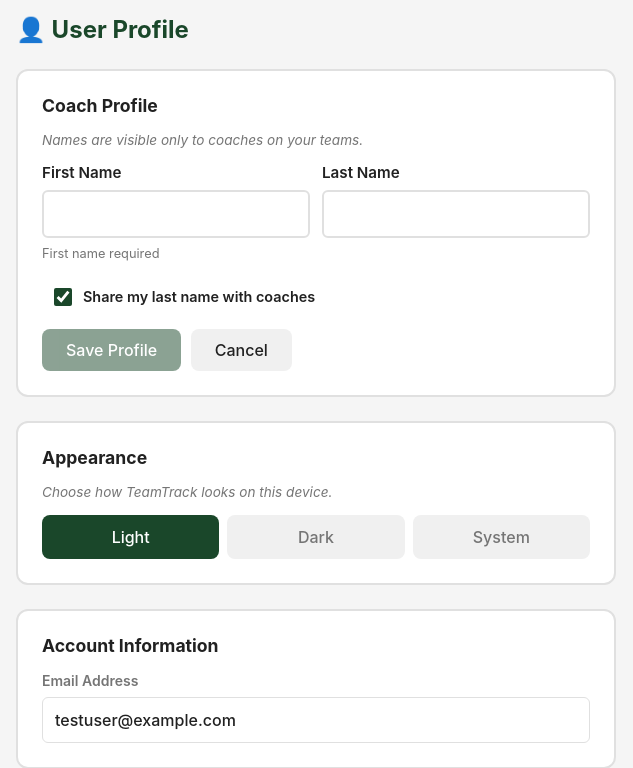
Test: UserProfile – coach profile form › clears conflict alert only after a successful Retry refetch
In the field labelled "First Name": (176, 214) [42, 190, 310, 238], type "Alex"
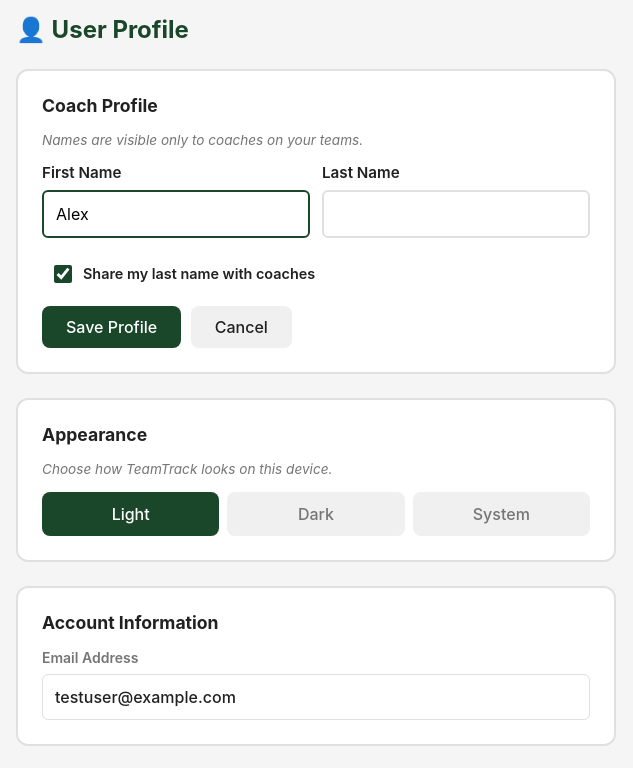
Click the button "Save Profile": (112, 327) [42, 306, 181, 348]
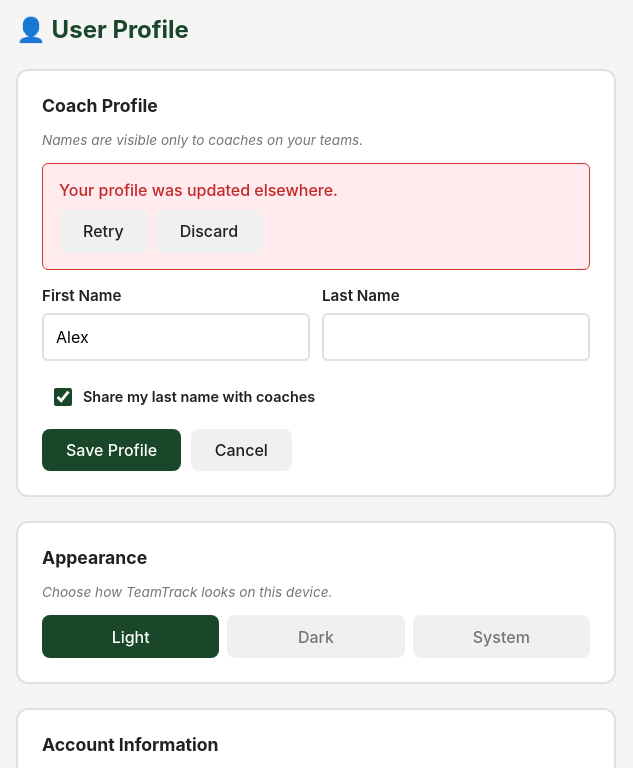
Result: the text "Your profile was updated elsewhere." is shown at [59, 180, 338, 200]
Click the button "Retry": (103, 232) [59, 210, 148, 253]
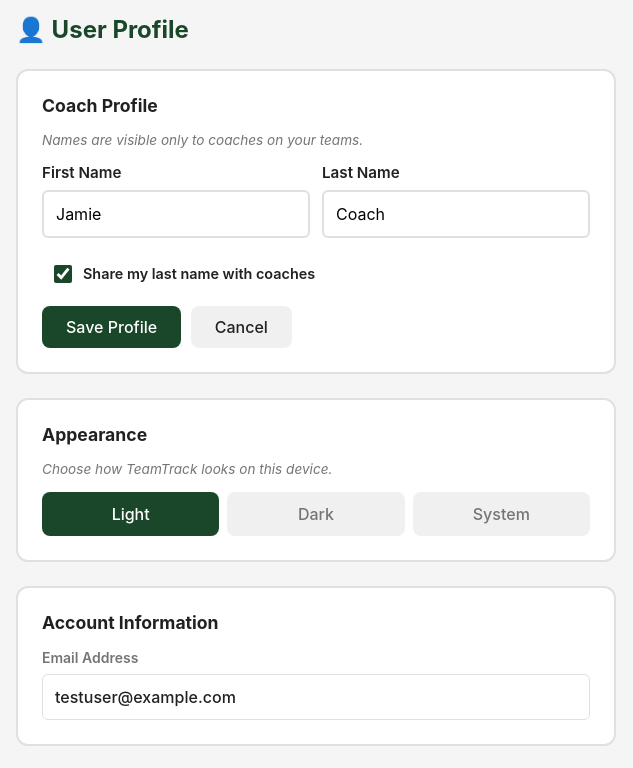
Result: the text "Your profile was updated elsewhere." is gone
